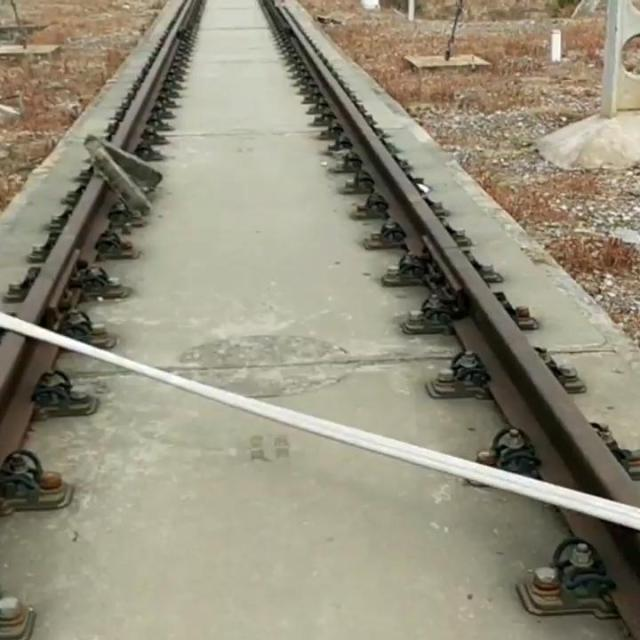rail: (263, 1, 640, 508), (18, 175, 114, 325), (116, 1, 201, 148), (1, 335, 58, 462), (569, 515, 640, 592)
